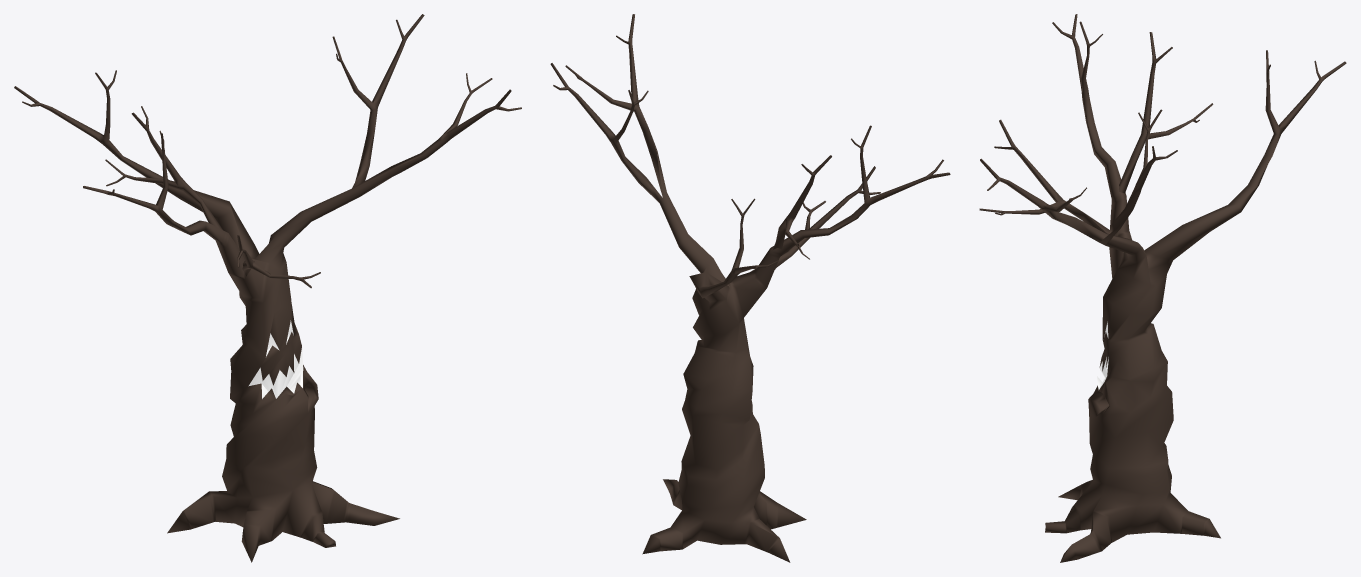
File: SpookyTree09.glb
The picture shows the model from 3 angles, left to right: view 1: azimuth 30°, elevation 25°; view 2: azimuth 150°, elevation 25°; view 3: azimuth 270°, elevation 25°; orthographic projection. The views are drawn at different scales.
Visible parts, largest first — view 1: SpookyTree09; view 2: SpookyTree09; view 3: SpookyTree09.
Boxes of the visible parts, bbox=[...] form: SpookyTree09: bbox=[14, 14, 521, 562]; SpookyTree09: bbox=[550, 14, 950, 562]; SpookyTree09: bbox=[979, 14, 1346, 562].
Size of what is drawn, in the model's own units: 6.06 by 6.56 by 4.77.
2 materials, 2 textured.
